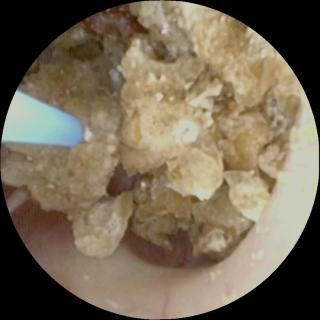fiber: (3, 93, 82, 145)
stone: (2, 5, 300, 260)
